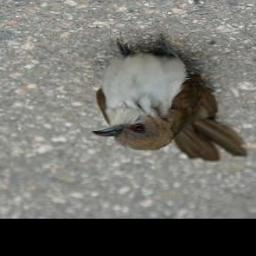Cuckoo: (90, 32, 249, 163)
